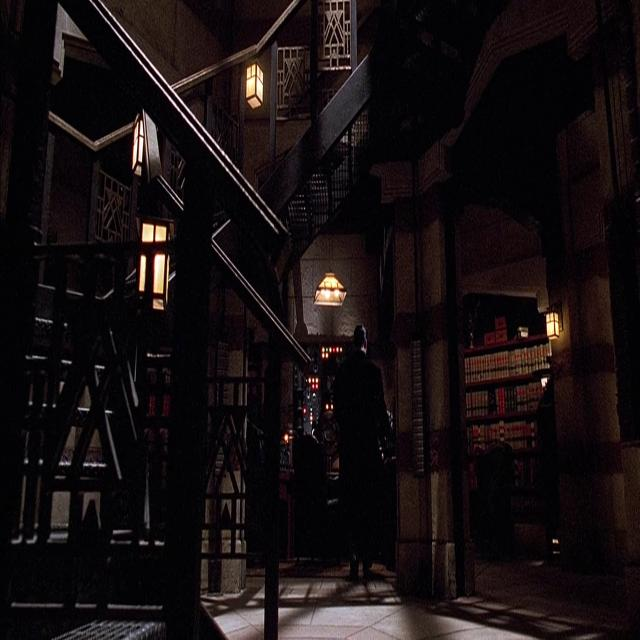People: (330, 316, 394, 565)
chair: (458, 442, 520, 569), (290, 407, 320, 551)
